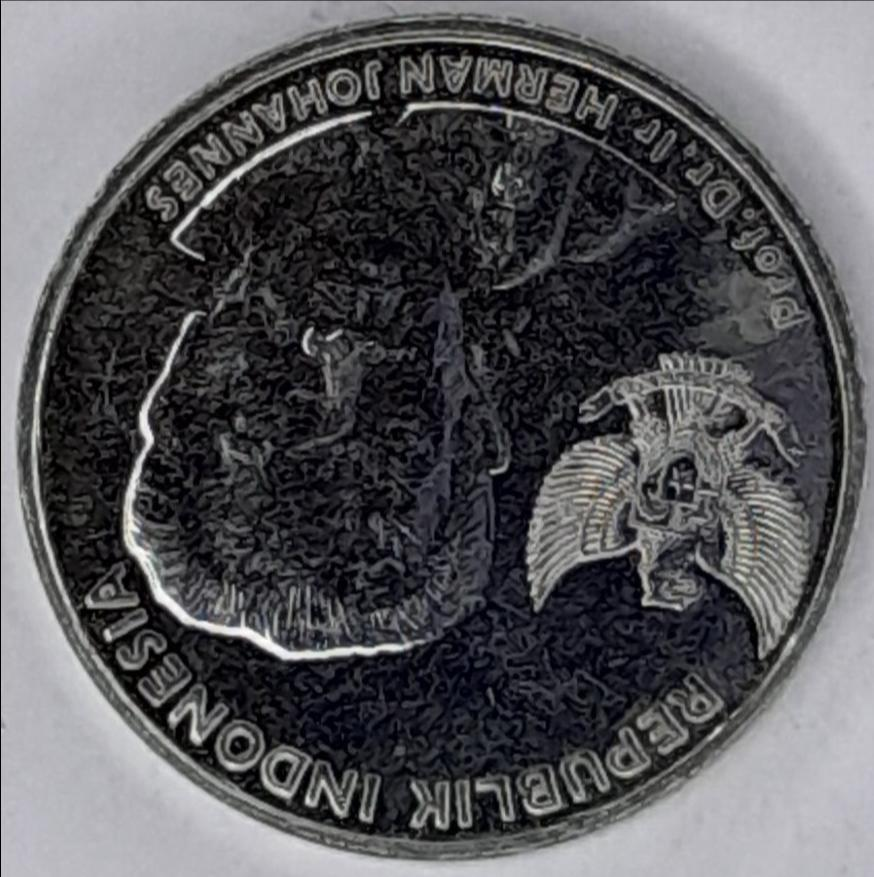coin_100_e2016: (11, 7, 871, 860)
